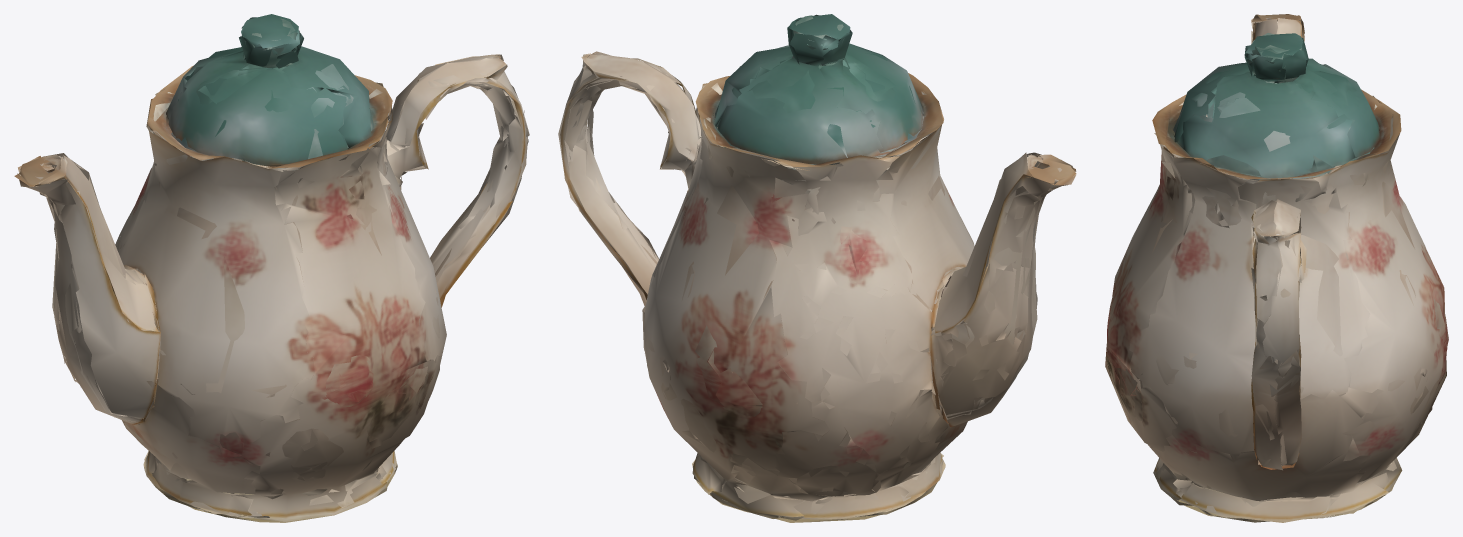
File: unified--detail--teapot.glb
The picture shows the model from 3 angles, left to right: view 1: azimuth 30°, elevation 25°; view 2: azimuth 150°, elevation 25°; view 3: azimuth 270°, elevation 25°; orthographic projection. The views are drawn at different scales.
Parts seen in each view (by area): view 1: teapot-1; view 2: teapot-1; view 3: teapot-1.
Part boxes in pixels (<box>): teapot-1: <box>14,14,529,522</box>; teapot-1: <box>558,14,1076,522</box>; teapot-1: <box>1105,14,1448,522</box>.
Size of the model in its own units: 0.2805 by 0.2388 by 0.1708.
1 material, 1 textured.
